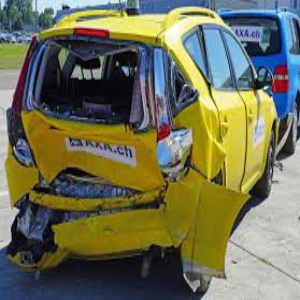bumper: (12, 184, 248, 282)
